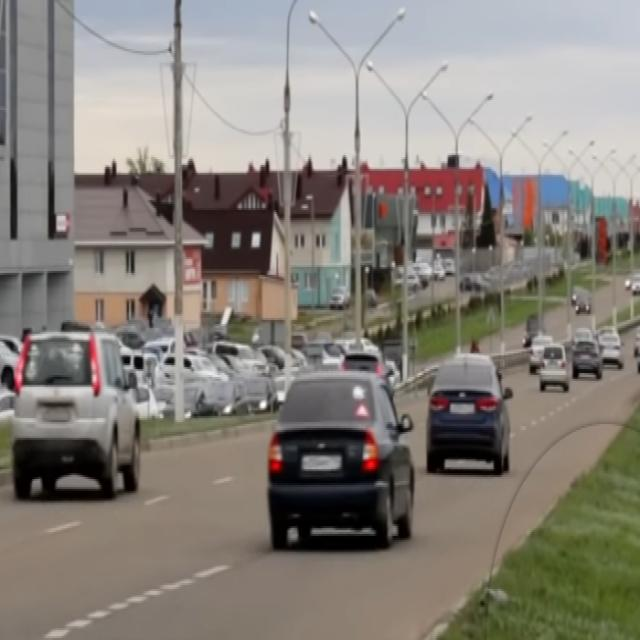non emergency car: (270, 374, 414, 551), (17, 329, 141, 507), (427, 351, 514, 479), (540, 345, 572, 396), (573, 340, 603, 381), (603, 334, 625, 373), (530, 334, 553, 371), (575, 291, 593, 318)
